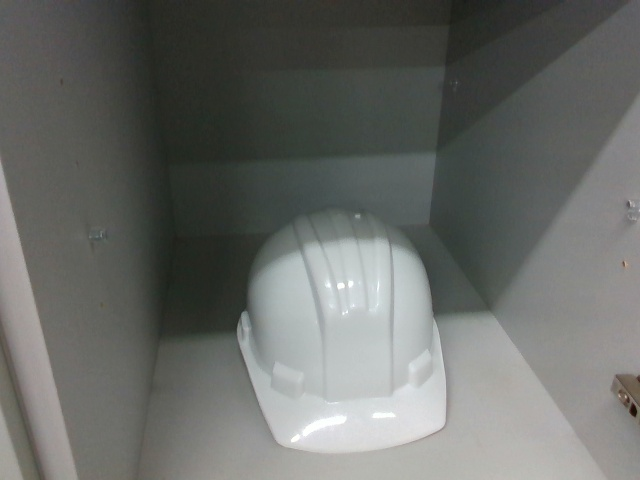helmet: (236, 204, 452, 455)
